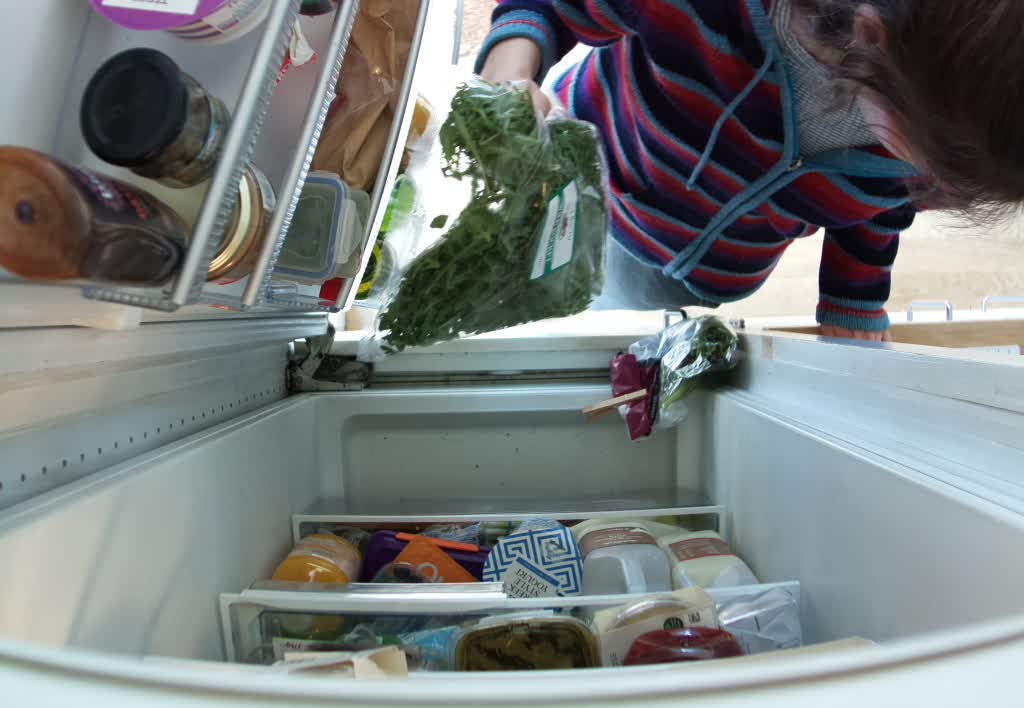salad: (394, 80, 619, 354), (626, 312, 749, 410)
